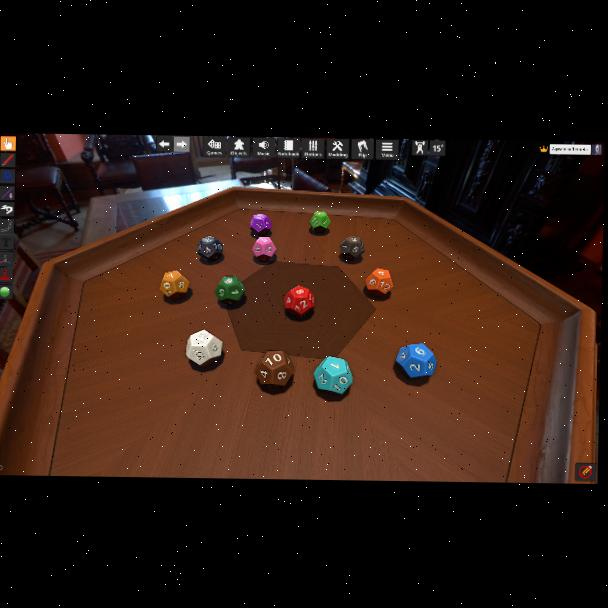d12: (254, 349, 293, 387), (312, 356, 349, 394), (395, 344, 433, 379), (185, 330, 221, 366), (283, 286, 314, 319), (214, 275, 245, 306), (160, 271, 190, 302), (365, 268, 391, 297), (339, 236, 364, 262), (197, 237, 222, 263), (252, 237, 277, 263), (250, 214, 272, 238), (309, 211, 329, 233)
